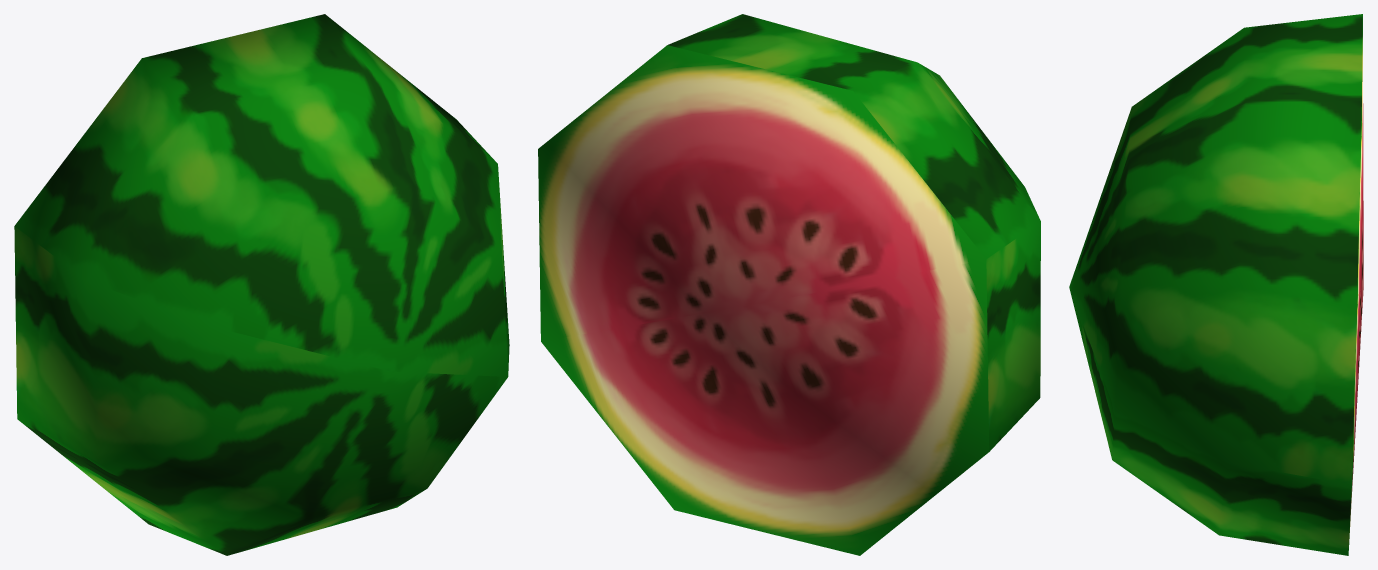
File: SM_PROP_food_watermelon_02.FBX
3 views of the same model, side by side, from view 1: azimuth 30°, elevation 25°; view 2: azimuth 150°, elevation 25°; view 3: azimuth 270°, elevation 25° (orthographic). The views are drawn at different scales.
Visible parts, largest first — view 1: SM_PROP_food_watermelon_02; view 2: SM_PROP_food_watermelon_02; view 3: SM_PROP_food_watermelon_02.
Part boxes in pixels (x1,y1,x2,y2): SM_PROP_food_watermelon_02: (14,14,509,555); SM_PROP_food_watermelon_02: (538,14,1040,555); SM_PROP_food_watermelon_02: (1069,14,1363,555).
Size of the model in its own units: 42.14 by 24.76 by 42.12.
